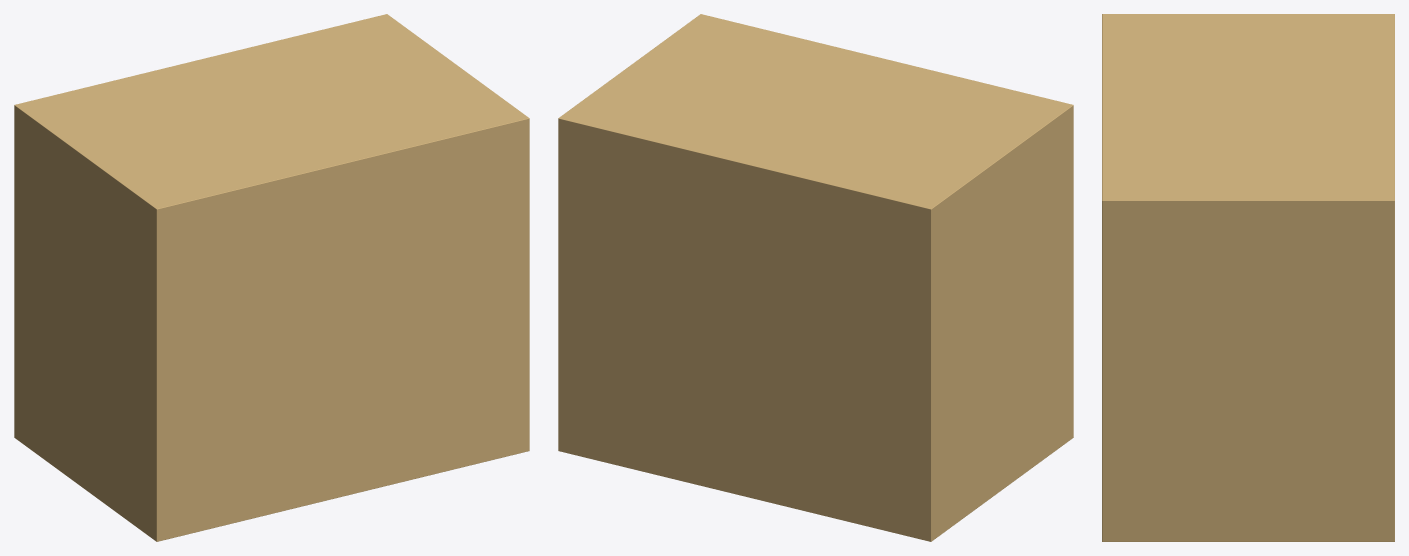
The model's file is box_1185x785x1010-Body.dae.
3 views of the same model, side by side, from view 1: azimuth 30°, elevation 25°; view 2: azimuth 150°, elevation 25°; view 3: azimuth 270°, elevation 25° (orthographic). The views are drawn at different scales.
Visible parts, largest first — view 1: node0; view 2: node0; view 3: node0.
Boxes of the visible parts, bbox=[...] form: node0: bbox=[14, 14, 529, 541]; node0: bbox=[558, 14, 1073, 541]; node0: bbox=[1102, 14, 1394, 541].
Bounding box in the file's own units: 1.18 × 0.785 × 1.01.
